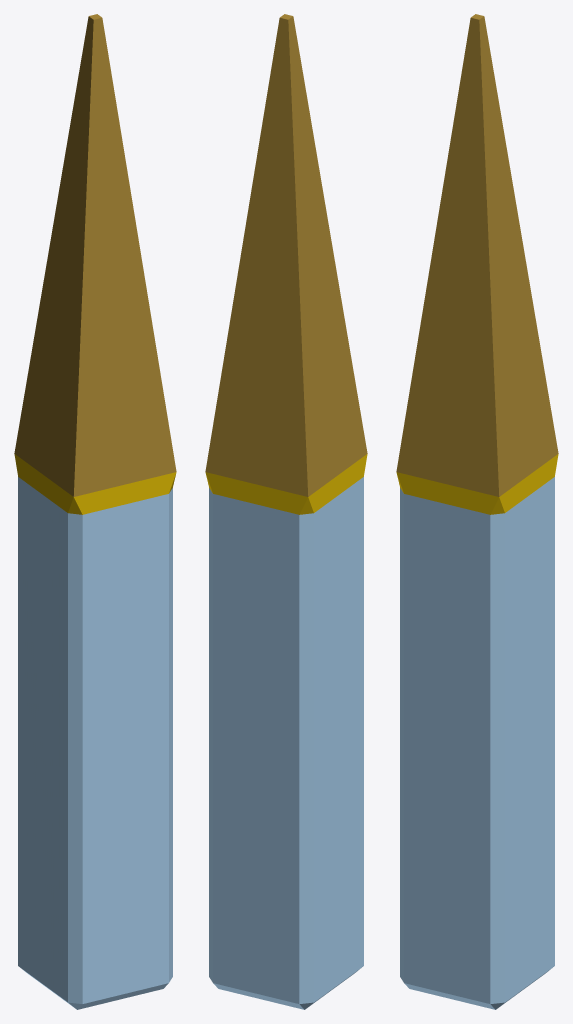
File: pointy_tower.glb
3 views of the same model, side by side, from view 1: azimuth 30°, elevation 25°; view 2: azimuth 150°, elevation 25°; view 3: azimuth 330°, elevation 25° (orthographic).
Visible parts, largest first — view 1: Cube; view 2: Cube; view 3: Cube.
Part boxes in pixels (x1,y1,x2,y2): Cube: (14,14,176,1009); Cube: (205,14,367,1009); Cube: (396,14,558,1009).
Size of the model in its own units: 2 by 17.57 by 2.
